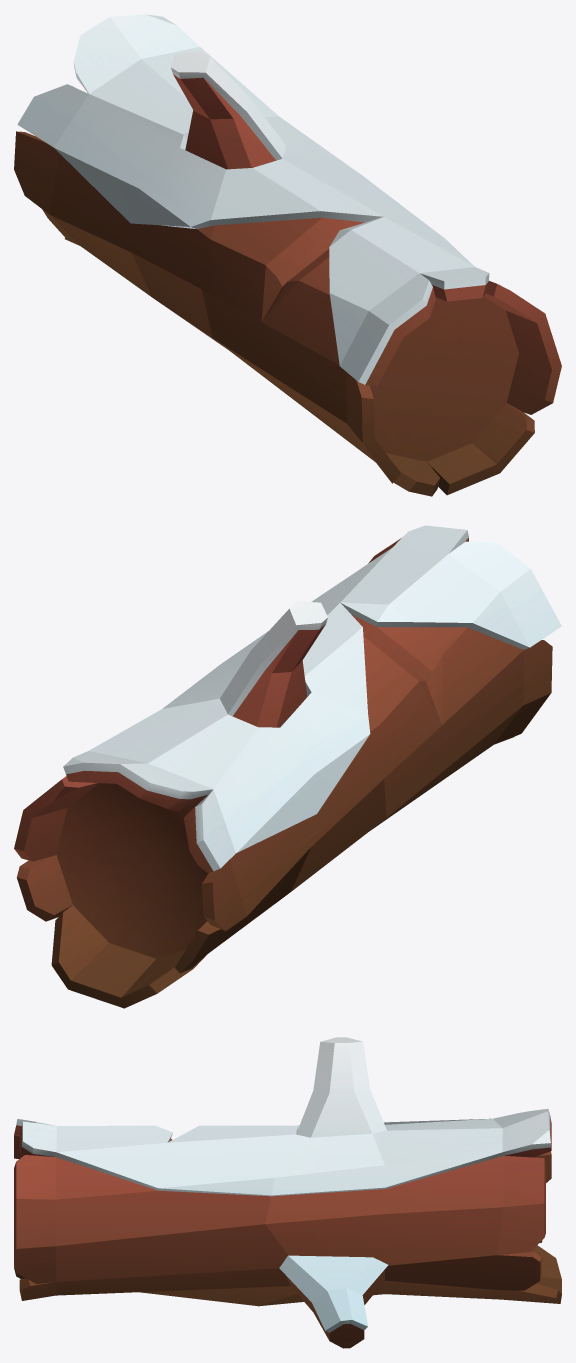
The picture shows the model from 3 angles, top to bottom: view 1: azimuth 30°, elevation 25°; view 2: azimuth 150°, elevation 25°; view 3: azimuth 270°, elevation 25°; orthographic projection. The views are drawn at different scales.
Parts seen in each view (by area): view 1: SnowyTreeLog; view 2: SnowyTreeLog; view 3: SnowyTreeLog.
Boxes of the visible parts, bbox=[...] form: SnowyTreeLog: bbox=[14, 14, 561, 496]; SnowyTreeLog: bbox=[14, 525, 561, 1008]; SnowyTreeLog: bbox=[14, 1037, 561, 1348].
Bounding box in the file's own units: 1.32 × 1.38 × 2.87.
Materials: 1 (1 with a texture image).
